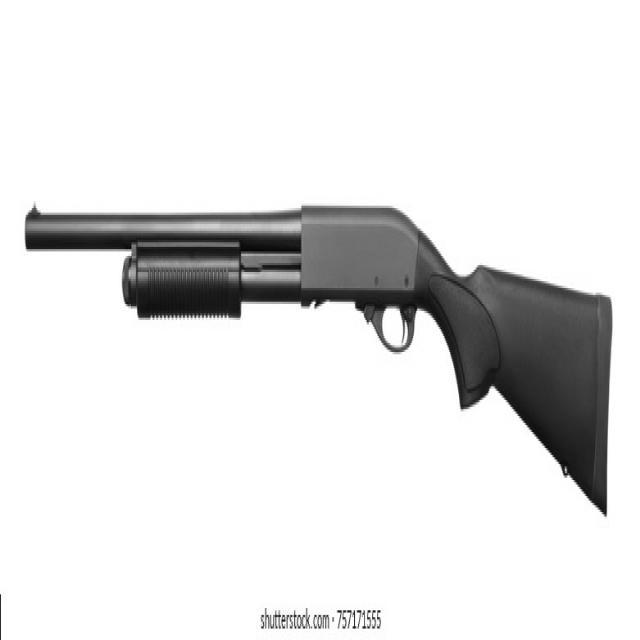shotgun: (31, 191, 618, 525)
